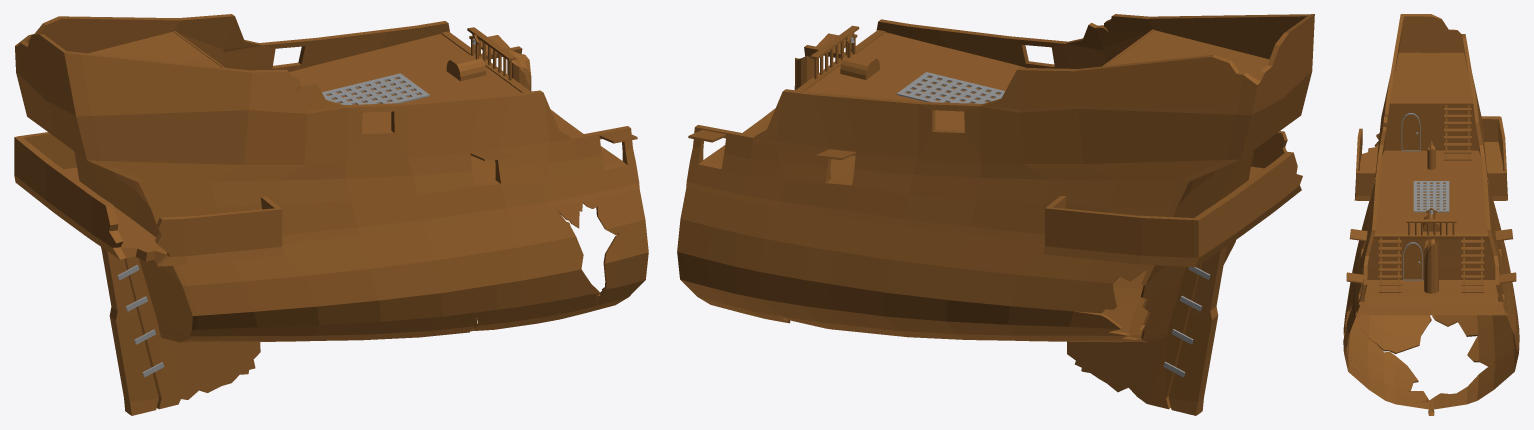
File: Ship back part.fbx
3 views of the same model, side by side, from view 1: azimuth 30°, elevation 25°; view 2: azimuth 150°, elevation 25°; view 3: azimuth 270°, elevation 25° (orthographic). The views are drawn at different scales.
Parts seen in each view (by area): view 1: Cube; view 2: Cube; view 3: Cube.
Part boxes in pixels (x1,y1,x2,y2): Cube: (14,14,648,415); Cube: (677,14,1314,415); Cube: (1343,14,1519,415).
Bounding box in the file's own units: 120 × 85.11 × 55.78.
